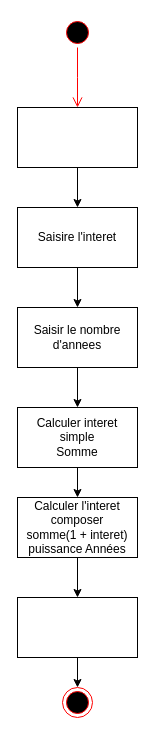
The diagram is 155 pixels wide and 735 high, and some of its shapes have lost their labels. The shapes that lost their labels are listed below. From the top down, each one's centre as x and y in pixels, then its label:
(x=77, y=137): Saisire la somme
(x=77, y=627): Afficher ibteret Simple et interet composer
